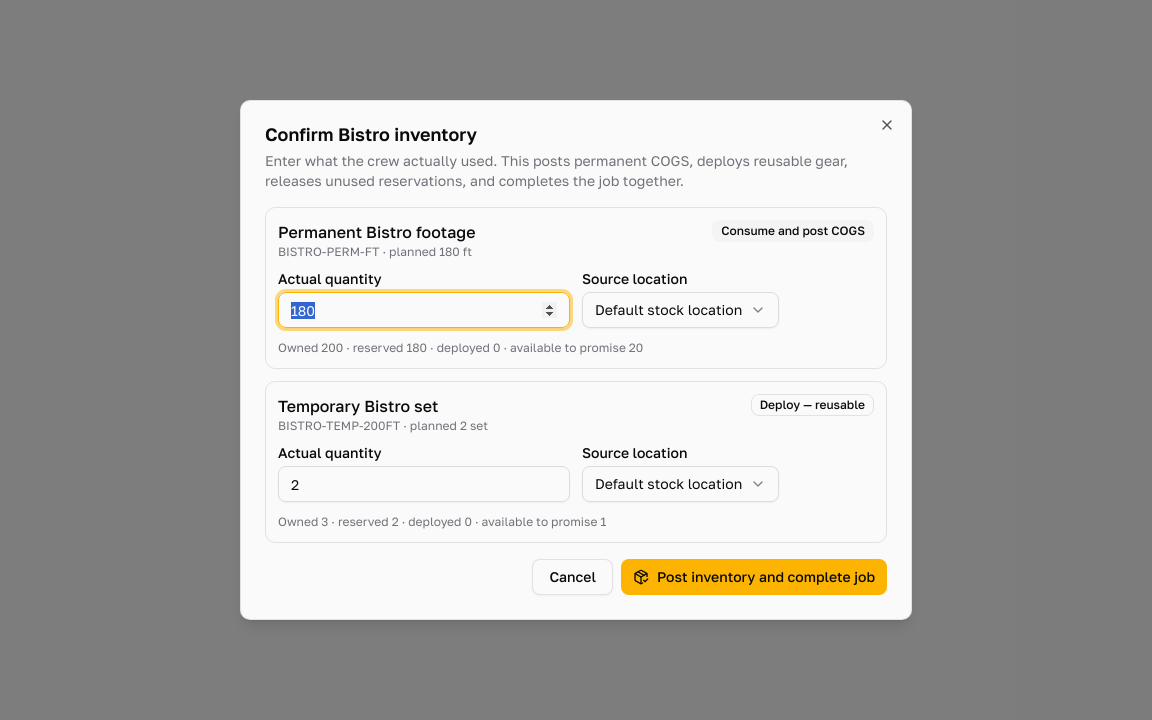
Test: JobInventoryCompletionDialog › shows a shortage before confirmation
Replace the text in the number field labelled "Actual quantity" below "BISTRO-PERM-FT" with "201" at x=424, y=310, box x1=278 y1=292 x2=570 y2=328
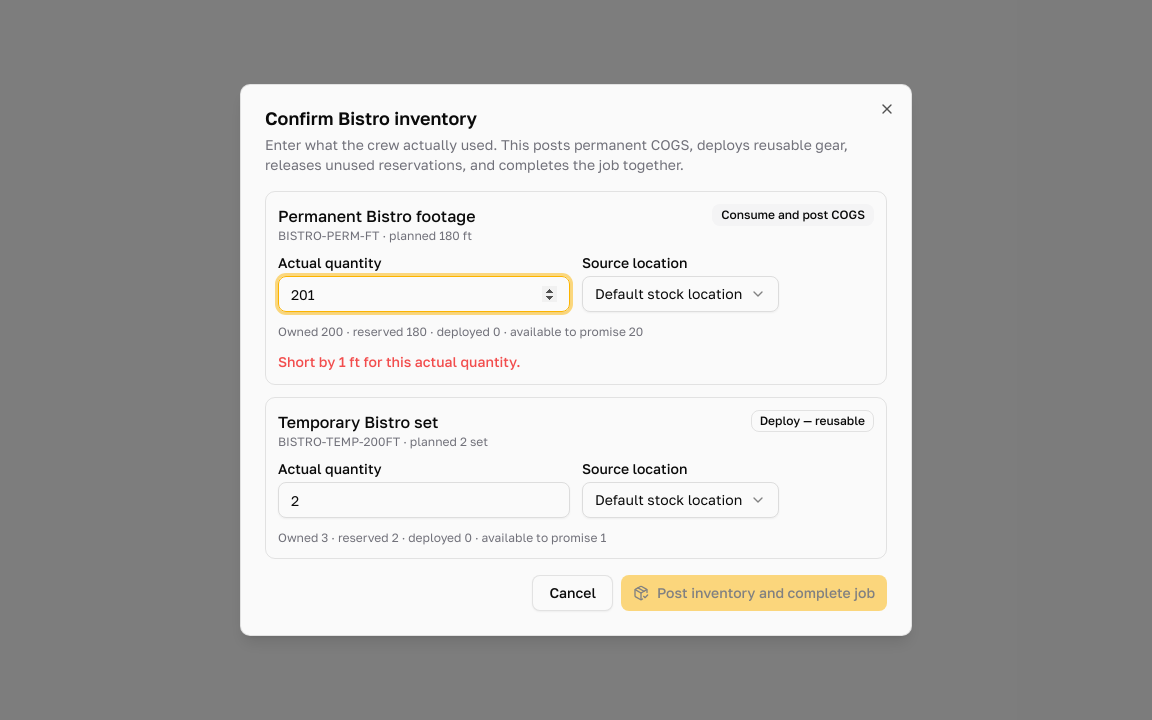
Now the text "Short by 1 ft for this actual quantity." is shown, box x1=278 y1=353 x2=521 y2=370
Now the button "Post inventory and complete job" is disabled, box x1=621 y1=575 x2=887 y2=611
